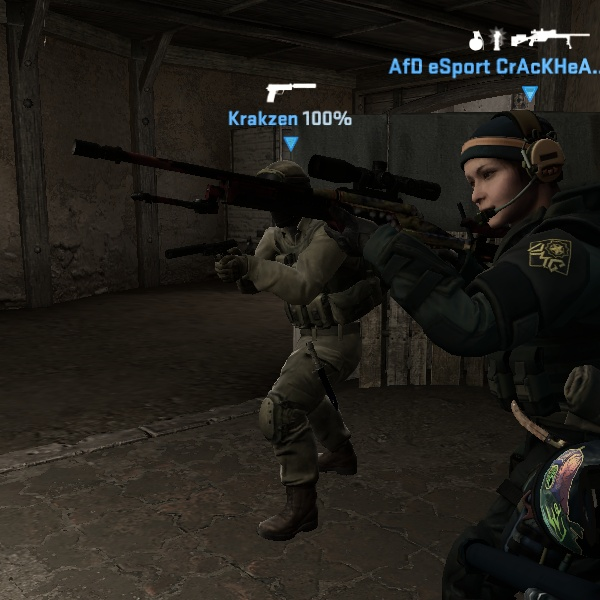ct_body: (367, 106, 600, 573), (190, 160, 389, 532)
ct_head: (440, 95, 580, 226)
